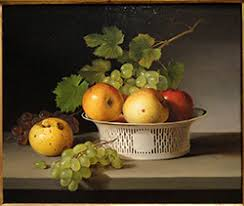apple: (159, 87, 194, 117)
damaged_apple: (26, 118, 76, 157), (124, 86, 168, 124), (80, 84, 122, 122)
